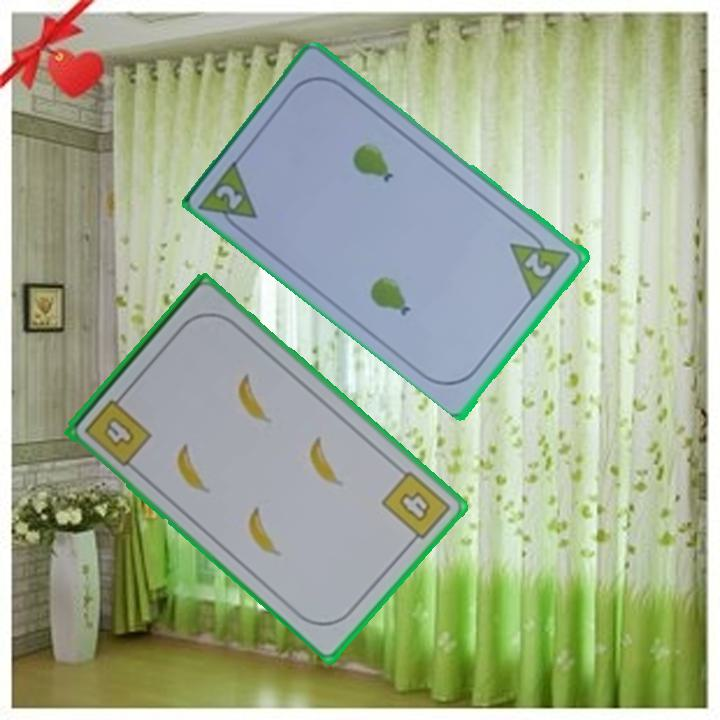2p: (521, 248, 556, 281), (212, 181, 247, 212)
4b: (378, 467, 454, 549), (80, 388, 155, 470)
